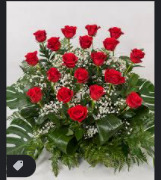RedRose: (67, 104, 89, 126), (20, 49, 41, 70), (105, 68, 124, 88), (45, 35, 64, 55), (91, 50, 108, 72), (54, 84, 73, 103), (105, 22, 124, 40), (125, 90, 142, 110), (43, 67, 62, 84), (88, 84, 106, 101), (61, 22, 77, 41), (64, 50, 79, 70), (26, 85, 42, 103), (73, 66, 89, 83), (104, 38, 119, 56), (31, 27, 47, 43), (130, 48, 143, 67), (86, 23, 101, 36), (79, 34, 91, 50)
